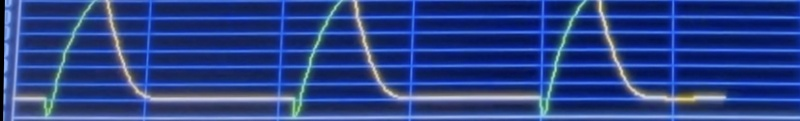leakage: (9, 0, 731, 120)
